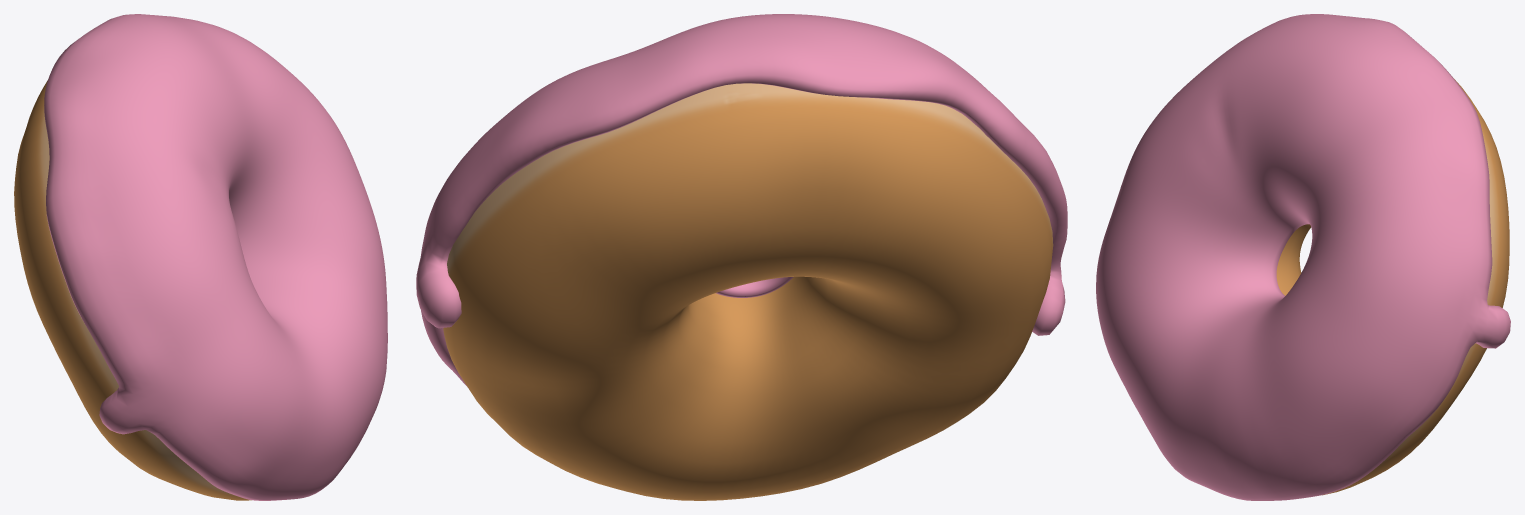
Rendered from Donut2.gltf.
3 views of the same model, side by side, from view 1: azimuth 30°, elevation 25°; view 2: azimuth 150°, elevation 25°; view 3: azimuth 270°, elevation 25° (orthographic). The views are drawn at different scales.
Parts seen in each view (by area): view 1: Icing, Donut; view 2: Donut, Icing; view 3: Icing, Donut.
Boxes of the visible parts, bbox=[...] form: Icing: bbox=[44, 14, 387, 500]; Donut: bbox=[14, 80, 251, 500]; Donut: bbox=[443, 83, 1053, 500]; Icing: bbox=[416, 14, 1067, 387]; Icing: bbox=[1096, 14, 1510, 500]; Donut: bbox=[1276, 79, 1509, 495].
Bounding box in the file's own units: 0.0896 × 0.0929 × 0.0852.
2 materials, 1 textured.
